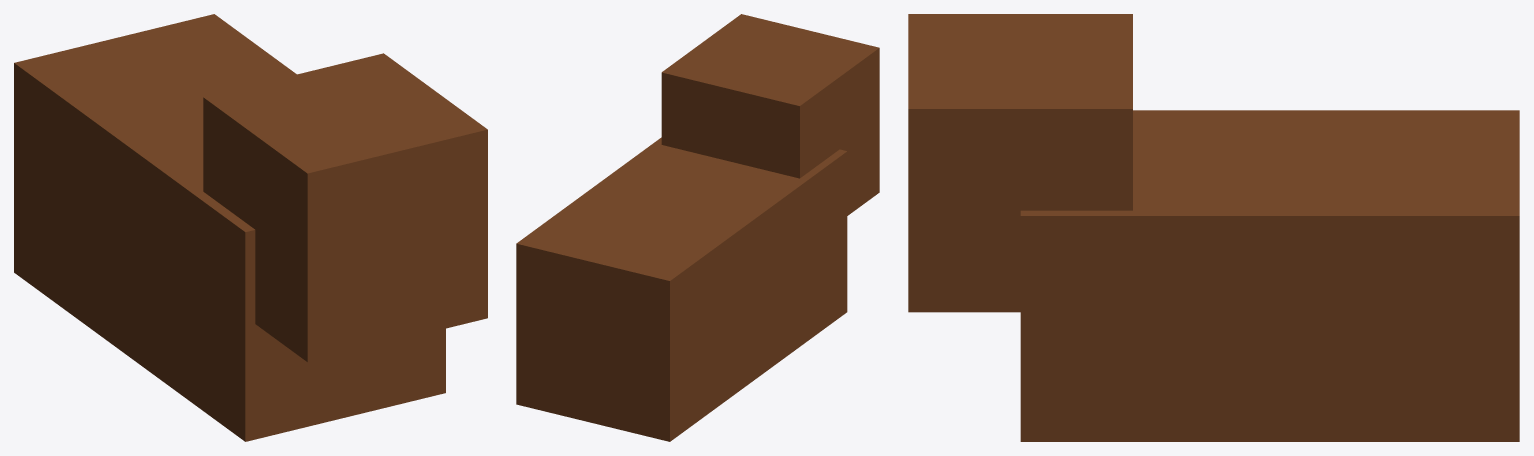
Rendered from dog.fbx.
3 renders of one model, left to right at view 1: azimuth 30°, elevation 25°; view 2: azimuth 150°, elevation 25°; view 3: azimuth 270°, elevation 25°, orthographic. The views are drawn at different scales.
Parts seen in each view (by area): view 1: Dog; view 2: Dog; view 3: Dog.
Boxes of the visible parts, x1,y1,x2,y2 form: Dog: (14, 14, 487, 441); Dog: (516, 14, 879, 441); Dog: (908, 14, 1519, 441).
Bounding box in the file's own units: 100 × 145 × 245.
